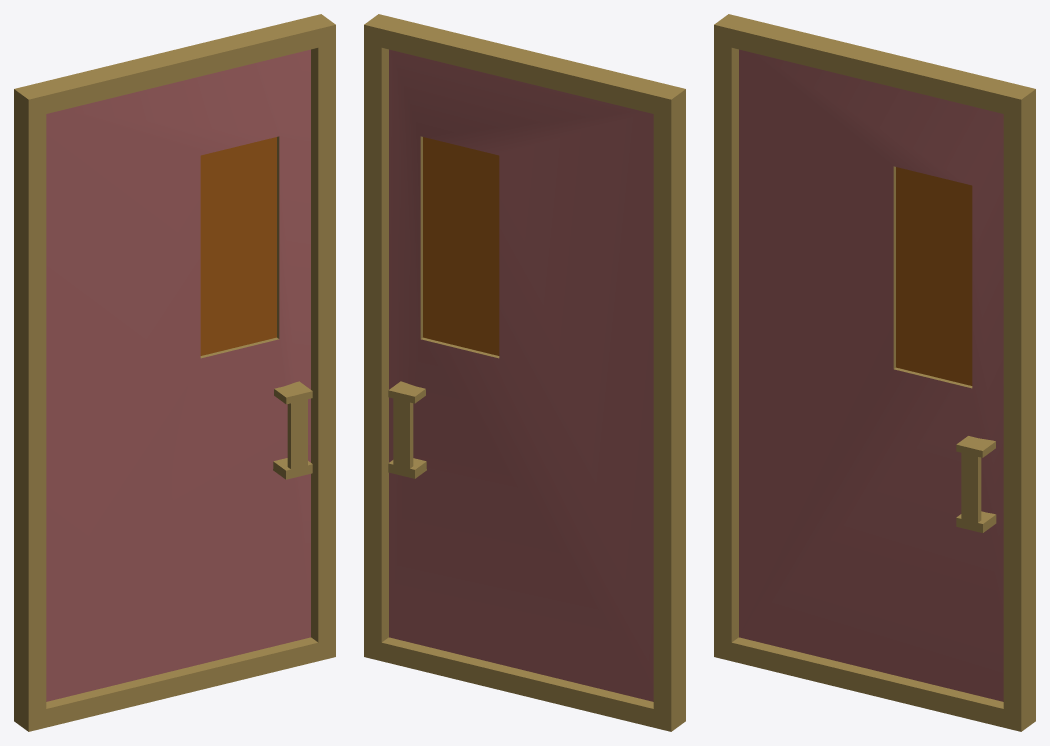
File: Classroom Door V2.fbx
The picture shows the model from 3 angles, left to right: view 1: azimuth 30°, elevation 25°; view 2: azimuth 150°, elevation 25°; view 3: azimuth 330°, elevation 25°; orthographic projection.
Visible parts, largest first — view 1: ClassroomDoor1; view 2: ClassroomDoor1; view 3: ClassroomDoor1.
Boxes of the visible parts, left/top/right/bottom form: ClassroomDoor1: left=14, top=14, right=335, bottom=731; ClassroomDoor1: left=364, top=14, right=685, bottom=731; ClassroomDoor1: left=714, top=14, right=1035, bottom=731.
Bounding box in the file's own units: 185 × 364 × 30.03.
Materials: 3 (1 with a texture image).
